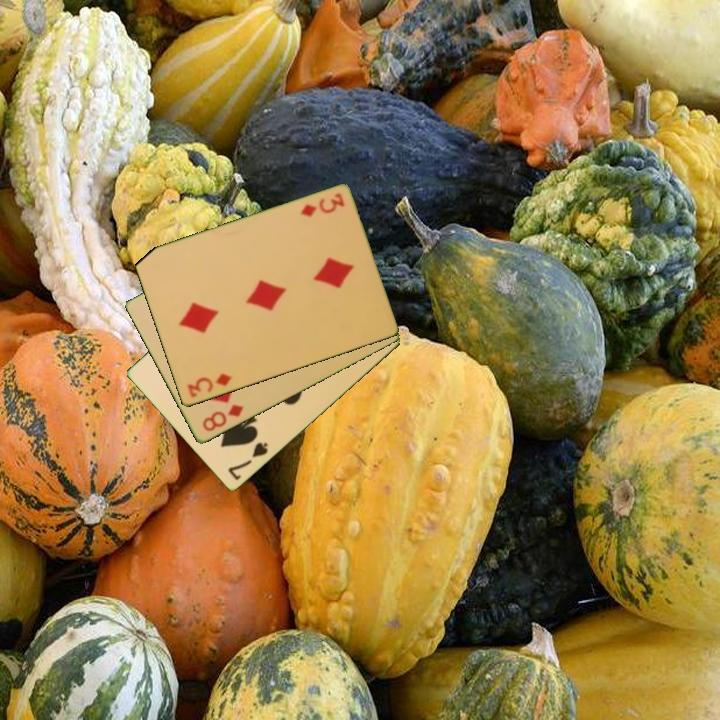3d: (296, 190, 347, 221), (184, 370, 234, 401)
7s: (224, 439, 271, 483)
8d: (198, 401, 246, 435)
